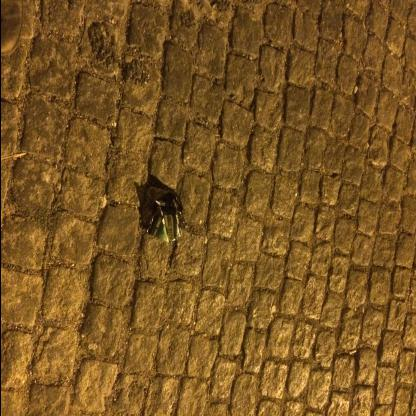plastik: (146, 193, 186, 243)
